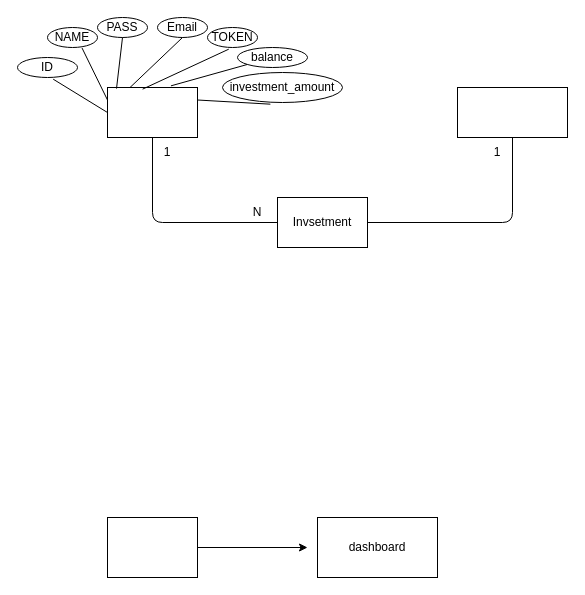
Some shapes in this 585 by 595 pixel diagram are drawn without their labels. The box of each missing label's shape, as (x1, y1, x2, y2) in pixels:
Invsetment_type: (456, 86, 568, 138)
login: (106, 516, 198, 578)
user: (106, 86, 198, 138)
